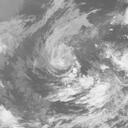cyclone: (38, 39, 82, 86)
